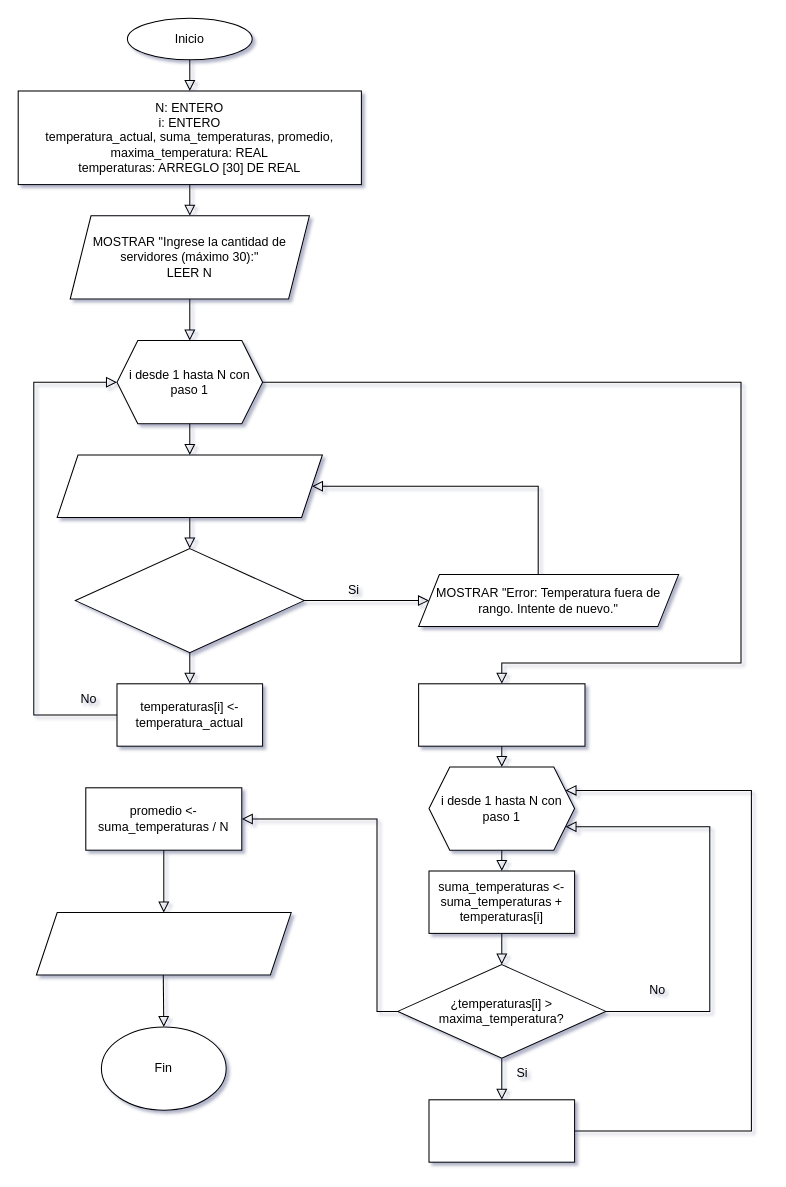
Some shapes in this 786 by 1187 pixel diagram are drawn without their labels. The shapes that lost their labels are listed below. From the top down, each one's centre as x and y in pixels, then its label:
pixel 189 485: MOSTRAR "Ingrese la temperatura del servidor ", i LEER temperatura_actual
pixel 189 600: ¿temperatura_actual < 0 OR temperatura_actual > 100?
pixel 501 714: suma_temperaturas <- 0 maxima_temperatura <- temperaturas[1]
pixel 163 943: MOSTRAR "Promedio: ", promedio, " | Máxima: ", maxima_temperatura
pixel 501 1130: maxima_temperatura <- temperaturas[i]
